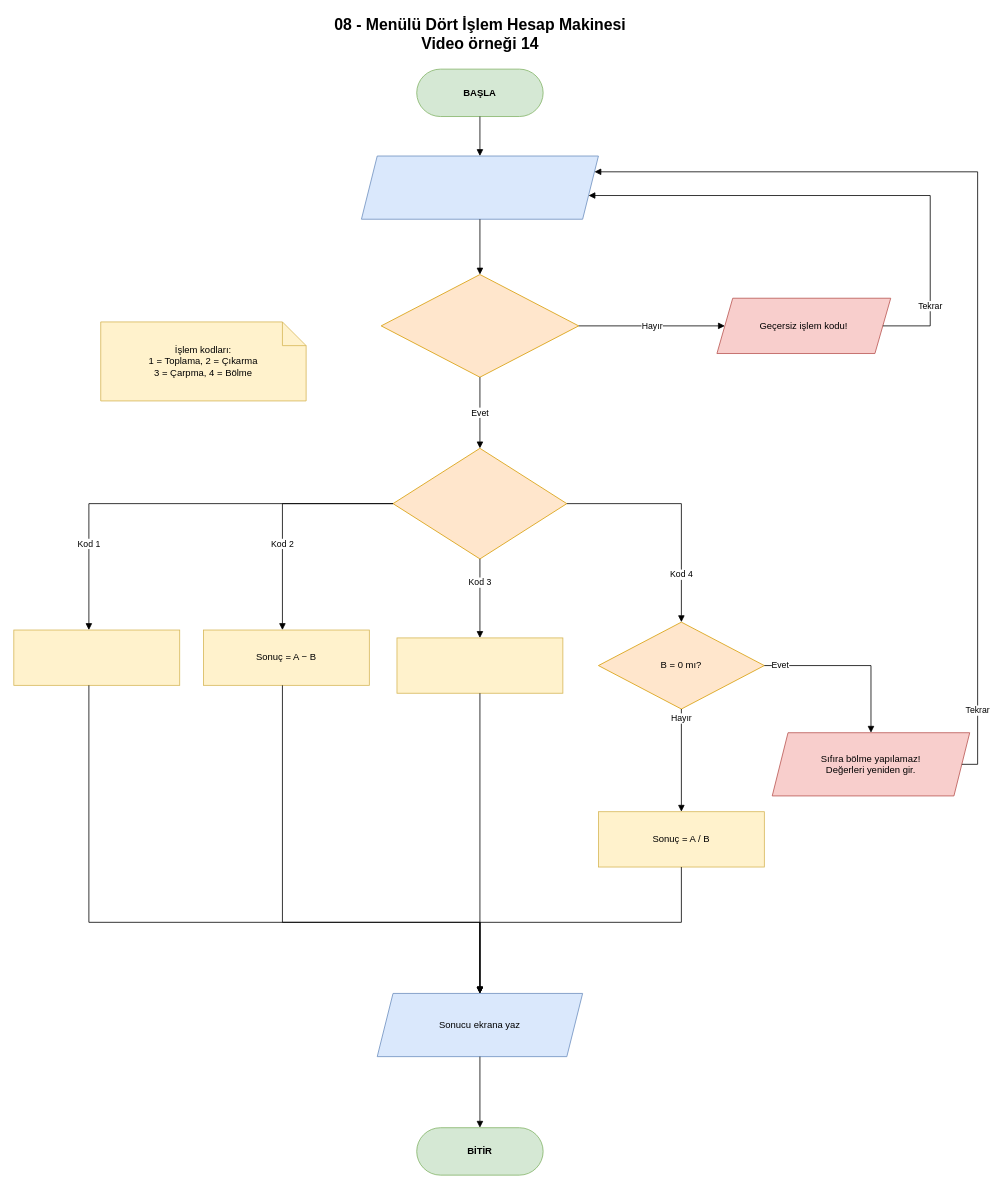
Some shapes in this 1003 by 1189 pixel diagram are drawn without their labels. The centre of each missing label's shape, as x and y in pixels:
"İşlem kodu?" belongs at [479,503].
"İşlem kodunu, A ve B sayılarını gir" belongs at [479,187].
"Kod; 1, 2, 3 veya 4 mü?" belongs at [479,325].
"Sonuç = A + B" belongs at [96,657].
"Sonuç = A × B" belongs at [479,665].
